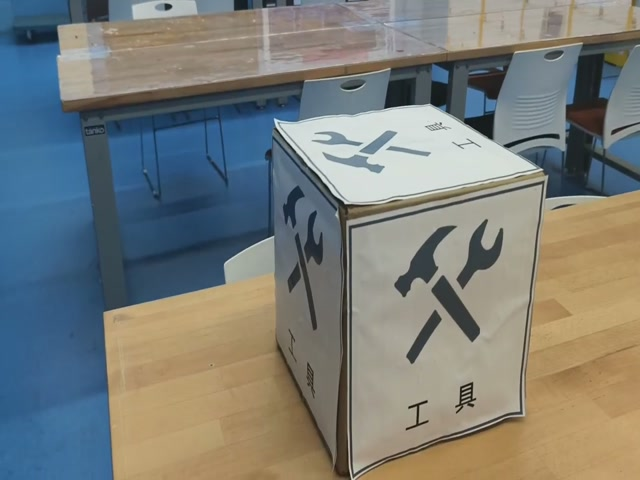Cube_tool: (276, 106, 545, 213)
